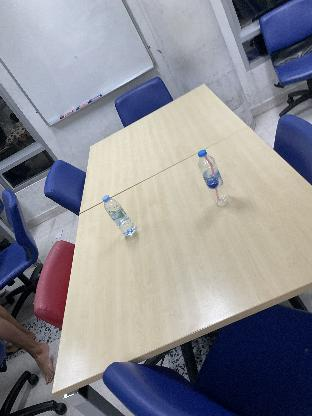Plastic Bottle: (197, 150, 231, 209), (101, 194, 136, 238)
